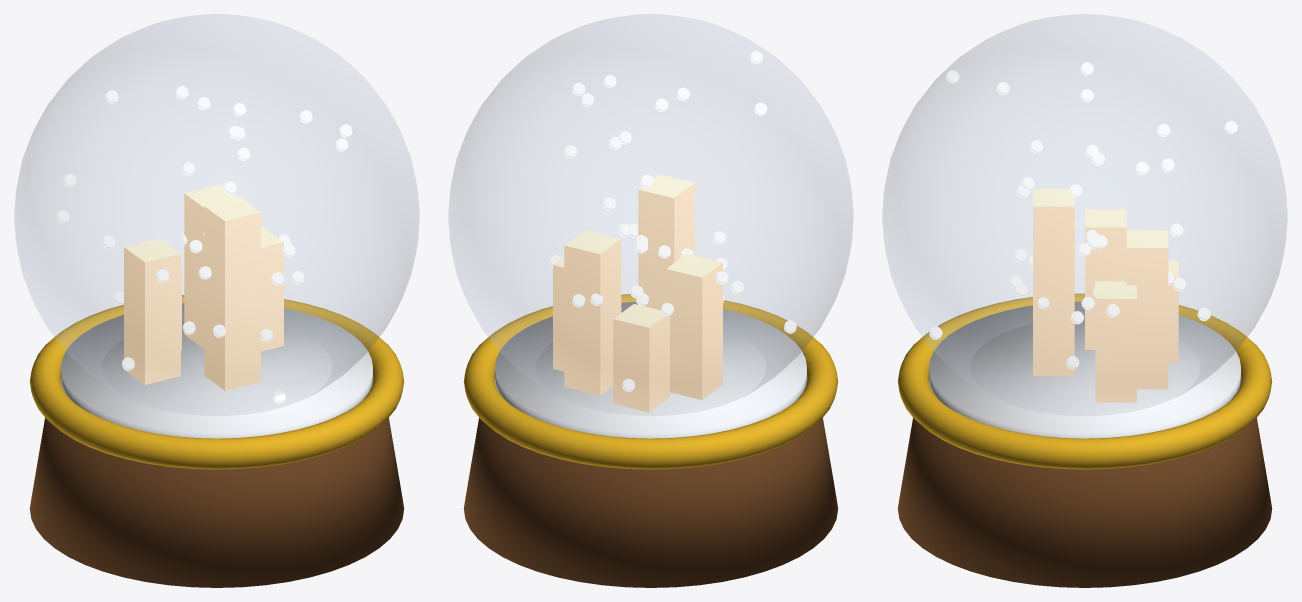
Rendered from decor_snowglobe.glb.
The picture shows the model from 3 angles, left to right: view 1: azimuth 30°, elevation 25°; view 2: azimuth 150°, elevation 25°; view 3: azimuth 270°, elevation 25°; orthographic projection.
Visible parts, largest first — view 1: decor_snowglobe; view 2: decor_snowglobe; view 3: decor_snowglobe.
Part boxes in pixels (bbox=[...]): decor_snowglobe: bbox=[14, 14, 419, 587]; decor_snowglobe: bbox=[448, 14, 853, 587]; decor_snowglobe: bbox=[882, 14, 1287, 587].
Bounding box in the file's own units: 0.078 × 0.101 × 0.078.
